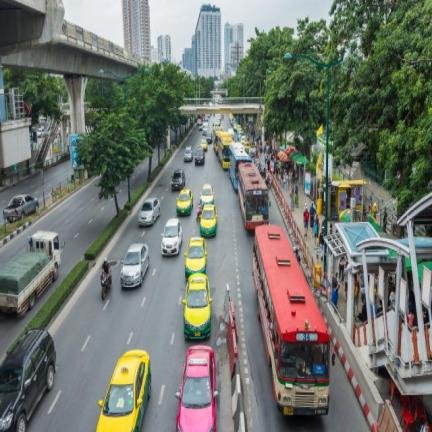bus: (252, 225, 329, 414), (238, 163, 268, 229), (228, 142, 251, 191), (218, 132, 232, 169)
car: (0, 329, 55, 430), (122, 244, 148, 287), (161, 218, 182, 254), (138, 198, 160, 225), (177, 190, 192, 215), (171, 170, 185, 190), (200, 184, 214, 203), (195, 146, 205, 165), (184, 146, 191, 161)
human: (101, 257, 111, 285), (313, 214, 319, 244), (309, 202, 315, 231), (319, 226, 324, 260), (196, 202, 202, 220), (383, 207, 387, 232), (290, 188, 294, 210), (294, 185, 298, 207), (282, 178, 286, 190), (282, 171, 286, 177)
motorbike: (101, 271, 110, 300), (196, 207, 201, 215), (196, 215, 200, 221)
pickup: (3, 195, 38, 222)
taxi: (97, 350, 151, 431), (176, 346, 217, 431), (182, 273, 211, 338), (184, 237, 207, 279), (200, 205, 217, 236)
truck: (0, 231, 61, 315)
